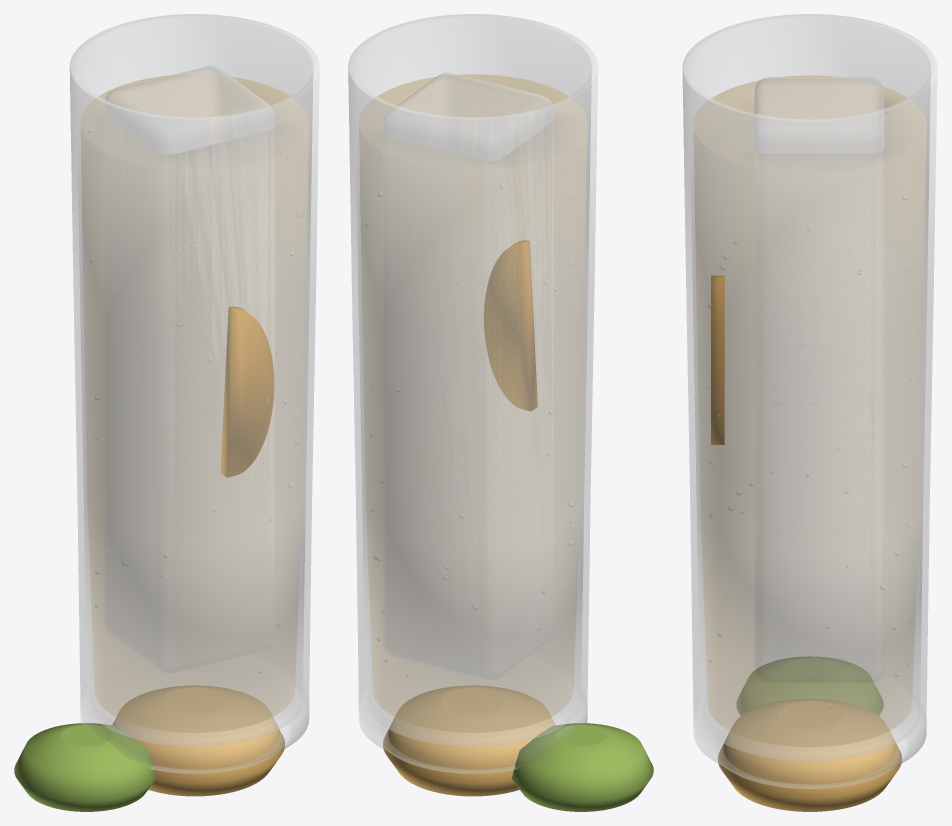
Rendered from jigger-wasabi-highball.glb.
3 views of the same model, side by side, from view 1: azimuth 30°, elevation 25°; view 2: azimuth 150°, elevation 25°; view 3: azimuth 270°, elevation 25° (orthographic).
Parts seen in each view (by area): view 1: glass, liquid, recipe_fizz, recipe_wasabi, ice, physical_orange_crescent; view 2: glass, liquid, recipe_fizz, ice, recipe_wasabi, physical_orange_crescent; view 3: glass, liquid, recipe_fizz, ice, recipe_wasabi, physical_orange_crescent, serving_fine_bubbles.
Part boxes in pixels (bbox=[...]): glass: bbox=[70, 14, 319, 773]; liquid: bbox=[81, 74, 308, 732]; recipe_fizz: bbox=[112, 685, 284, 796]; recipe_wasabi: bbox=[14, 723, 156, 811]; ice: bbox=[105, 66, 274, 154]; physical_orange_crescent: bbox=[221, 307, 273, 477]; glass: bbox=[348, 14, 597, 773]; liquid: bbox=[359, 74, 586, 732]; recipe_fizz: bbox=[383, 685, 555, 796]; ice: bbox=[383, 73, 553, 160]; recipe_wasabi: bbox=[511, 723, 653, 811]; physical_orange_crescent: bbox=[484, 240, 537, 410]; glass: bbox=[682, 14, 937, 788]; liquid: bbox=[693, 75, 926, 746]; recipe_fizz: bbox=[718, 699, 901, 811]; ice: bbox=[754, 77, 884, 153]; recipe_wasabi: bbox=[736, 656, 883, 715]; physical_orange_crescent: bbox=[711, 276, 724, 444]; serving_fine_bubbles: bbox=[706, 96, 918, 708].
Size of the model in its own units: 1.21 by 2.94 by 0.94.
